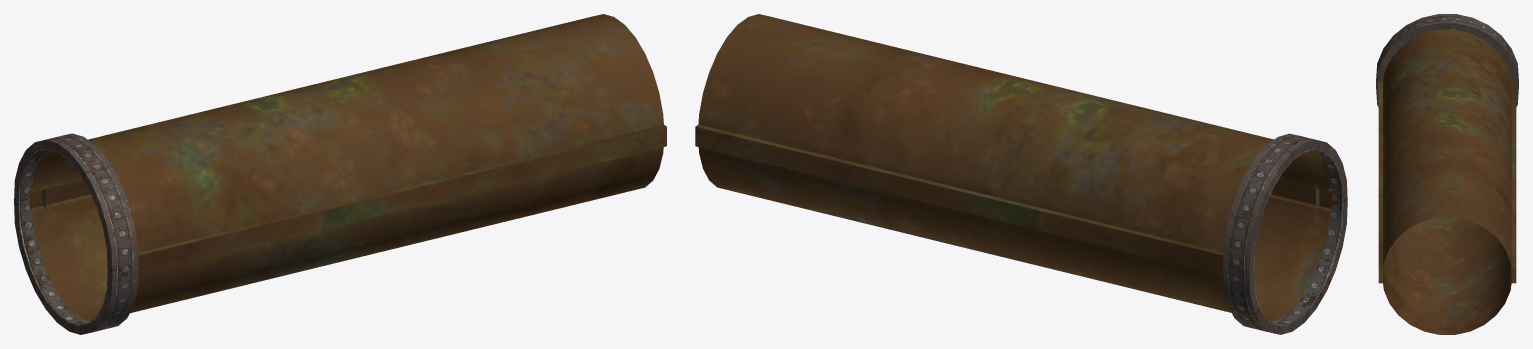
The model's file is pipe_4x1.fbx.
The picture shows the model from 3 angles, left to right: view 1: azimuth 30°, elevation 25°; view 2: azimuth 150°, elevation 25°; view 3: azimuth 270°, elevation 25°; orthographic projection. The views are drawn at different scales.
Parts seen in each view (by area): view 1: pipe_4x1; view 2: pipe_4x1; view 3: pipe_4x1.
Boxes of the visible parts, <box> form: pipe_4x1: <box>14,14,666,334</box>; pipe_4x1: <box>695,14,1347,334</box>; pipe_4x1: <box>1376,14,1518,334</box>.
Size of the model in its own units: 410 by 126 by 125.
